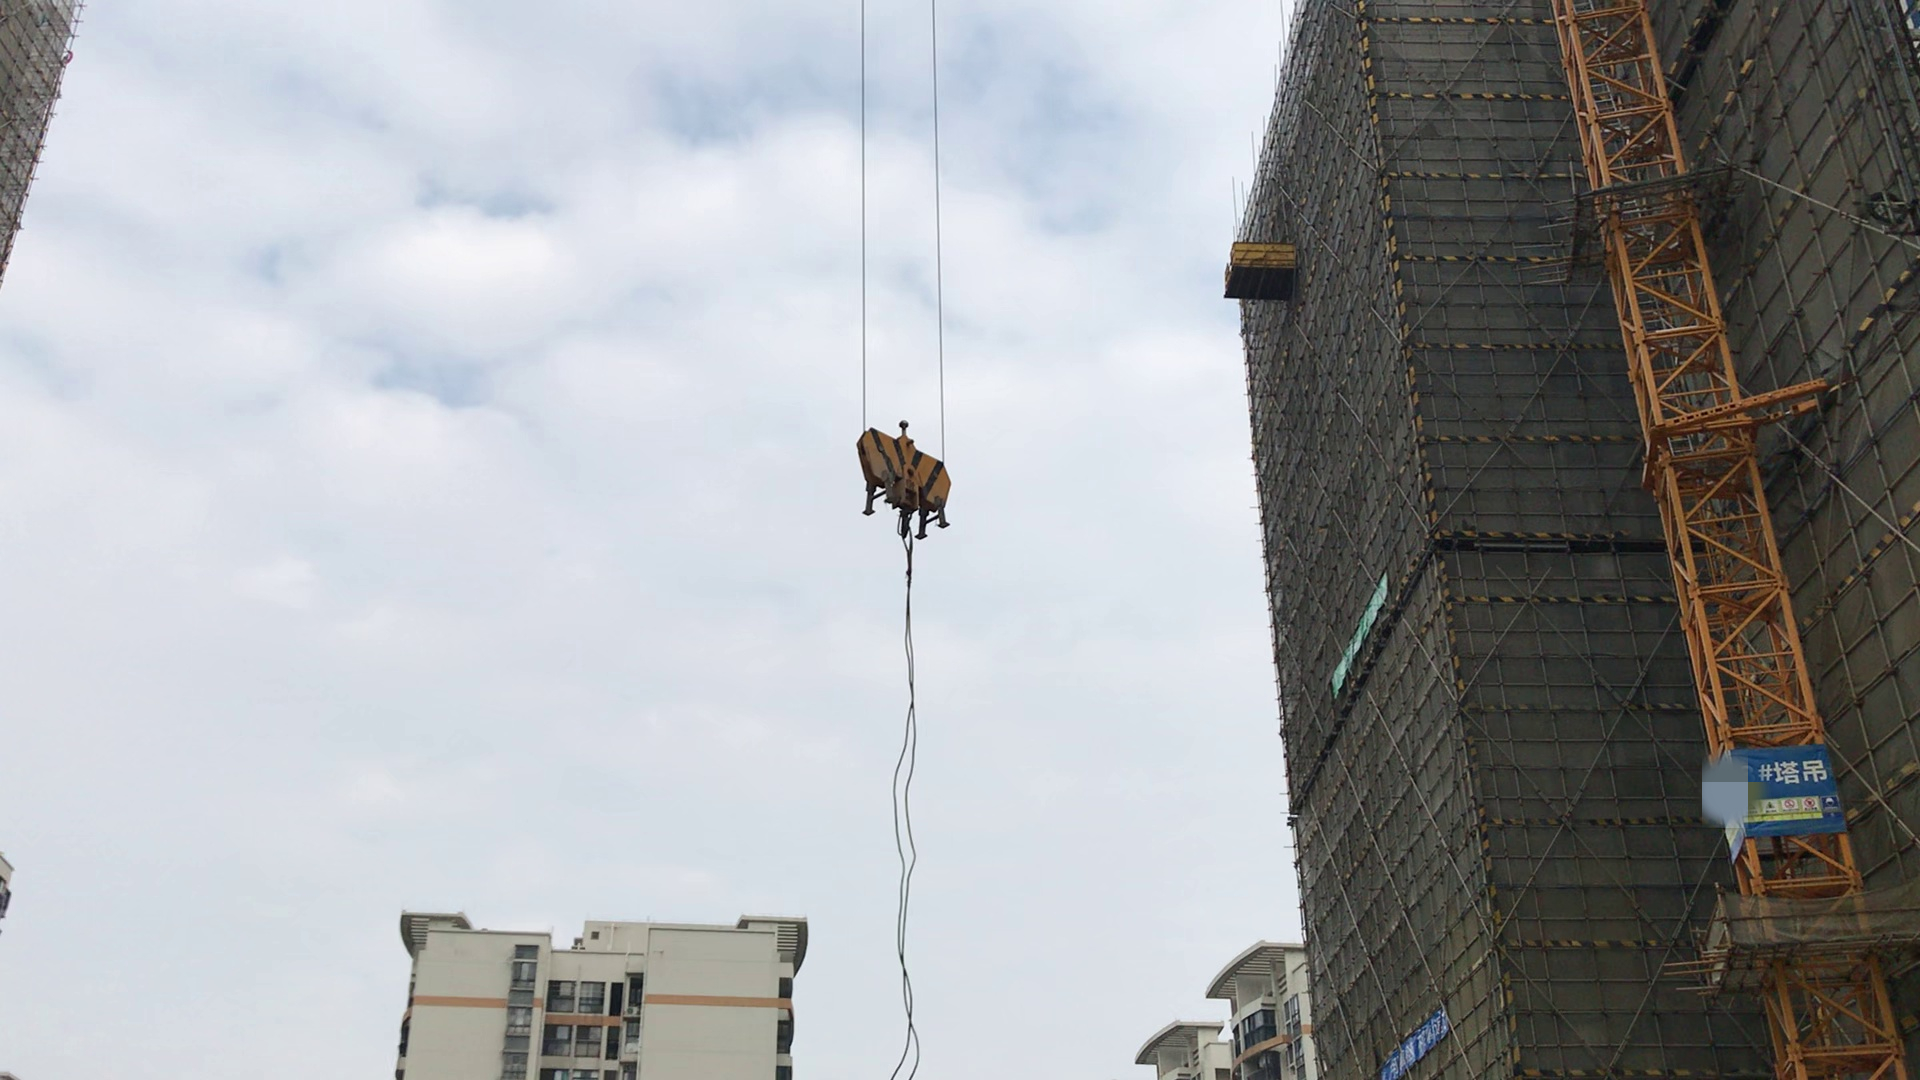hook: (856, 404, 965, 537)
